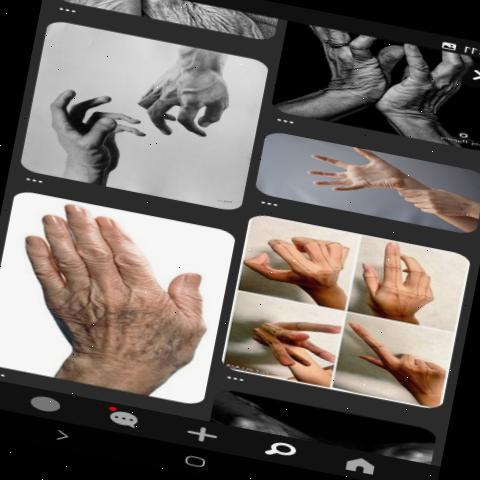Hands: (2, 201, 227, 376), (27, 77, 141, 178), (121, 59, 255, 139), (236, 304, 347, 382), (359, 237, 446, 327), (274, 149, 416, 196)
